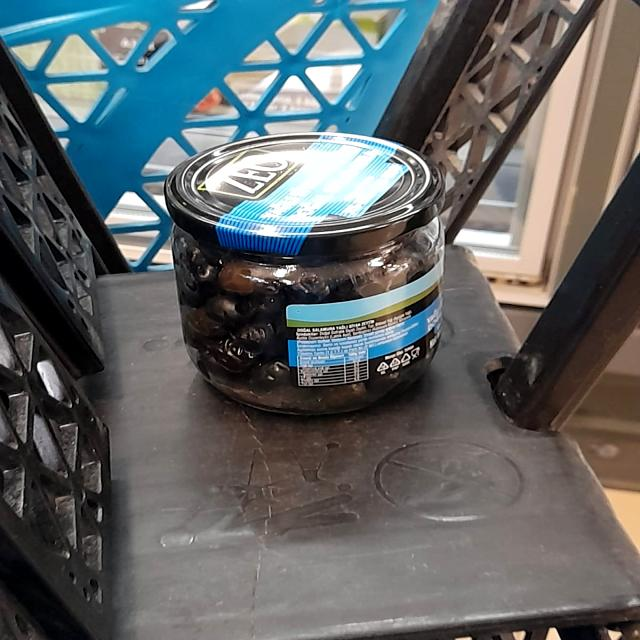olive: (136, 113, 479, 422)
